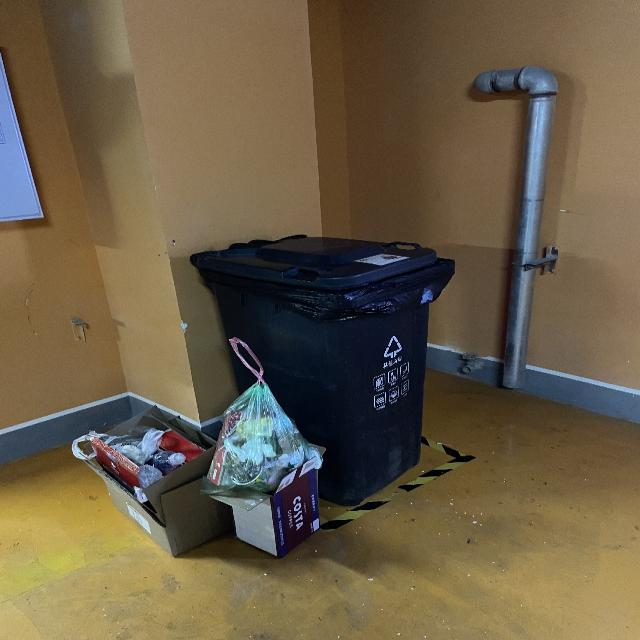garbage: (70, 336, 325, 558)
garbage_bin: (190, 234, 455, 506)
